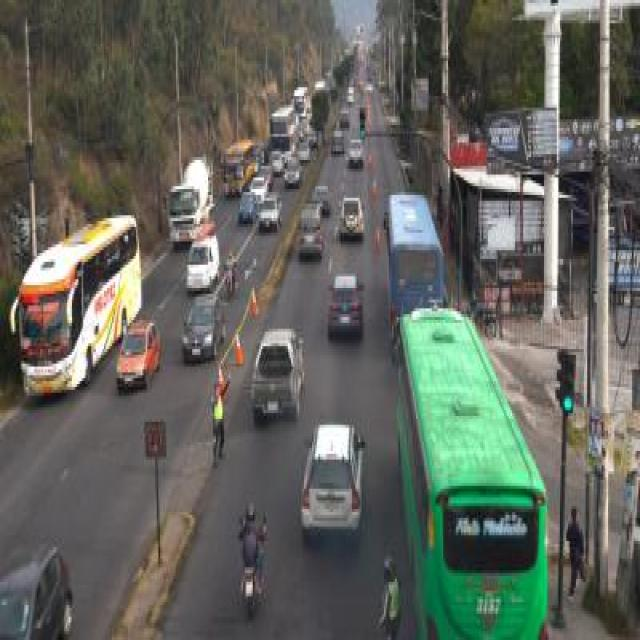BUS: (389, 312, 549, 640), (13, 216, 137, 402), (223, 141, 255, 196)
TRUCK: (170, 164, 212, 244)
